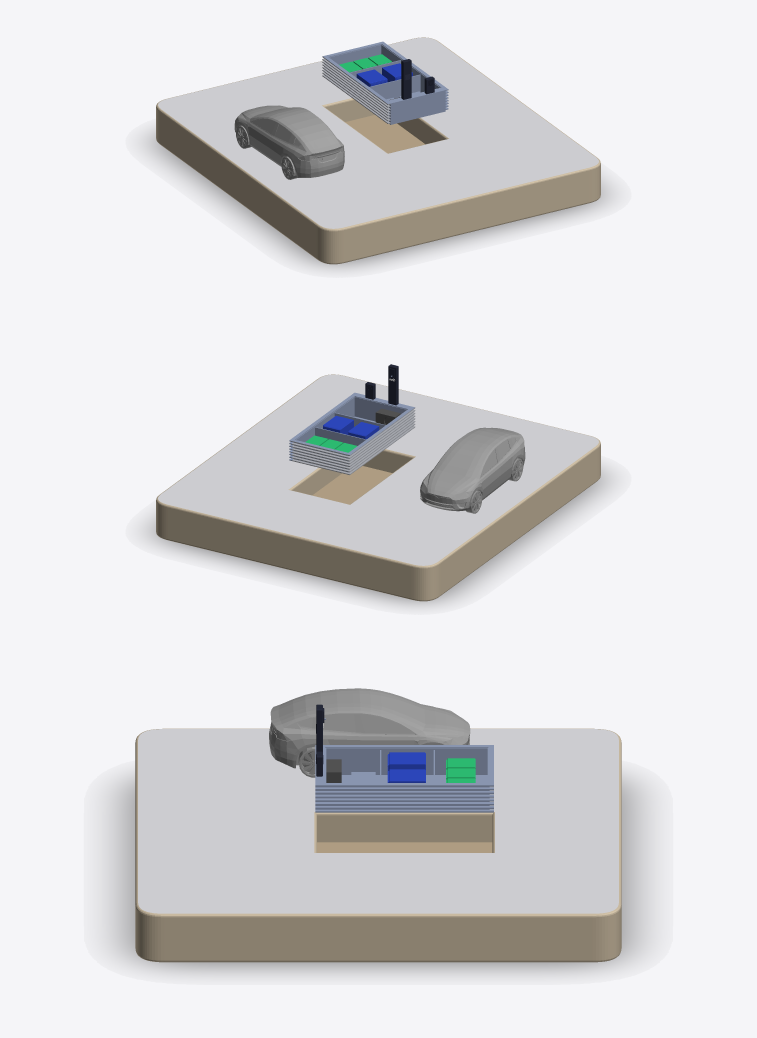
File: sett-scroll-installatie.glb
The picture shows the model from 3 angles, top to bottom: view 1: azimuth 30°, elevation 25°; view 2: azimuth 150°, elevation 25°; view 3: azimuth 270°, elevation 25°; orthographic projection. The views are drawn at different scales.
Visible parts, largest first — view 1: object 1, car, contact_shadow, BAK_met_RIBS, object 2, schot; view 2: object 1, car, contact_shadow, BAK_met_RIBS, object 2, Panel_side; view 3: object 1, contact_shadow, car, BAK_met_RIBS, object 2, Panel_side, Extruded.001, Extruded.002, Extruded.005, Extruded.004, Extruded.006, Extruded.008 (+1 smaller).
Part boxes in pixels (x1,y1,x2,y2): object 1: [156, 37, 600, 264]; car: [234, 105, 344, 179]; contact_shadow: [149, 133, 607, 267]; BAK_met_RIBS: [323, 42, 445, 124]; object 2: [345, 115, 424, 153]; schot: [369, 74, 420, 99]; object 1: [156, 374, 600, 601]; car: [420, 427, 525, 513]; contact_shadow: [149, 470, 607, 604]; BAK_met_RIBS: [292, 393, 414, 472]; object 2: [312, 466, 392, 504]; Panel_side: [294, 393, 357, 441]; object 1: [135, 728, 621, 962]; contact_shadow: [114, 778, 642, 971]; car: [269, 688, 470, 777]; BAK_met_RIBS: [315, 745, 493, 809]; object 2: [317, 842, 492, 852]; Panel_side: [315, 783, 488, 809]; Extruded.001: [315, 783, 493, 786]; Extruded.002: [315, 787, 493, 790]; Extruded.005: [315, 794, 493, 797]; Extruded.004: [315, 798, 493, 801]; Extruded.006: [315, 802, 493, 805]; Extruded.008: [315, 809, 493, 812].
Bounding box in the file's own units: 1668 × 422 × 1668.
Materials: 12 (1 with a texture image).
